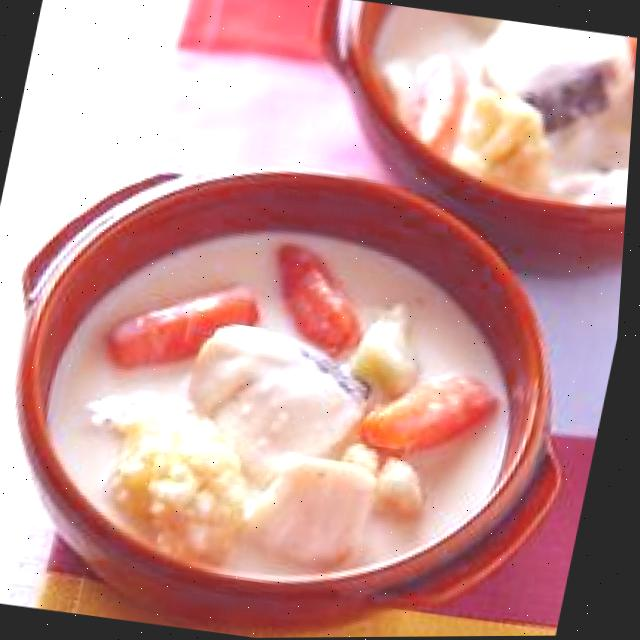汤锅炖物: (0, 114, 633, 640)
